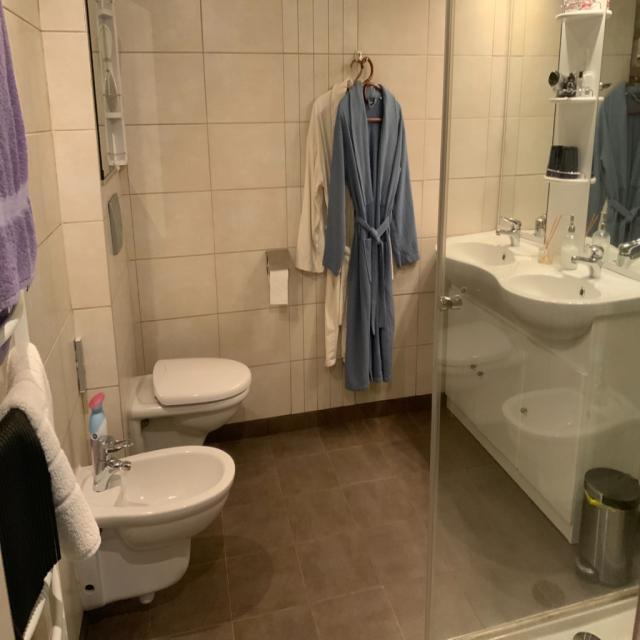designradiator: (0, 285, 70, 640)
douche: (425, 0, 640, 640)
toilet: (74, 434, 234, 608), (125, 356, 252, 448)
wastafel: (444, 282, 640, 546), (435, 214, 606, 305)
